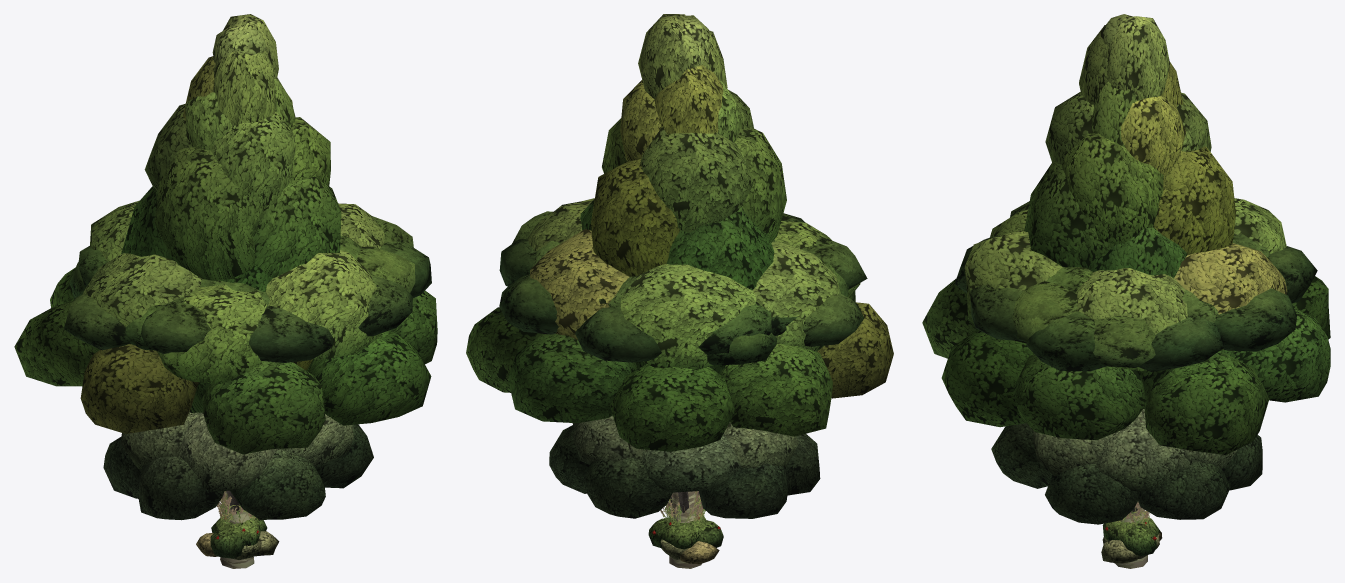
The model's file is trees.glb.
3 views of the same model, side by side, from view 1: azimuth 30°, elevation 25°; view 2: azimuth 150°, elevation 25°; view 3: azimuth 270°, elevation 25° (orthographic).
Visible parts, largest first — view 1: plane_tree, poplar, holm_oak, pine_umbrella, poplar_b, pine_umbrella_b, bush_a, bush_b, reeds; view 2: plane_tree, poplar, holm_oak, pine_umbrella, poplar_b, pine_umbrella_b, bush_a, bush_b, reeds; view 3: plane_tree, poplar, holm_oak, pine_umbrella, poplar_b, pine_umbrella_b, bush_a, bush_b.
Boxes of the visible parts, bbox=[...] form: plane_tree: bbox=[14, 200, 437, 568]; poplar: bbox=[121, 92, 341, 412]; holm_oak: bbox=[103, 412, 373, 520]; pine_umbrella: bbox=[78, 235, 431, 362]; poplar_b: bbox=[182, 14, 295, 150]; pine_umbrella_b: bbox=[64, 216, 415, 350]; bush_a: bbox=[210, 517, 267, 558]; bush_b: bbox=[196, 531, 279, 559]; reeds: bbox=[217, 491, 257, 560]; plane_tree: bbox=[466, 198, 893, 568]; poplar: bbox=[580, 80, 786, 374]; holm_oak: bbox=[549, 415, 820, 518]; pine_umbrella: bbox=[499, 202, 867, 362]; poplar_b: bbox=[638, 14, 727, 134]; pine_umbrella_b: bbox=[512, 211, 864, 365]; bush_a: bbox=[648, 514, 723, 549]; bush_b: bbox=[660, 539, 719, 564]; reeds: bbox=[660, 491, 705, 562]; plane_tree: bbox=[922, 198, 1330, 568]; poplar: bbox=[1024, 92, 1235, 394]; holm_oak: bbox=[991, 409, 1262, 524]; pine_umbrella: bbox=[954, 201, 1317, 371]; poplar_b: bbox=[1079, 14, 1183, 408]; pine_umbrella_b: bbox=[1012, 281, 1218, 367]; bush_a: bbox=[1102, 517, 1160, 555]; bush_b: bbox=[1101, 531, 1162, 563].
Bounding box in the file's own units: 12.71 × 18.56 × 12.48.
Materials: 2 (2 with a texture image).
